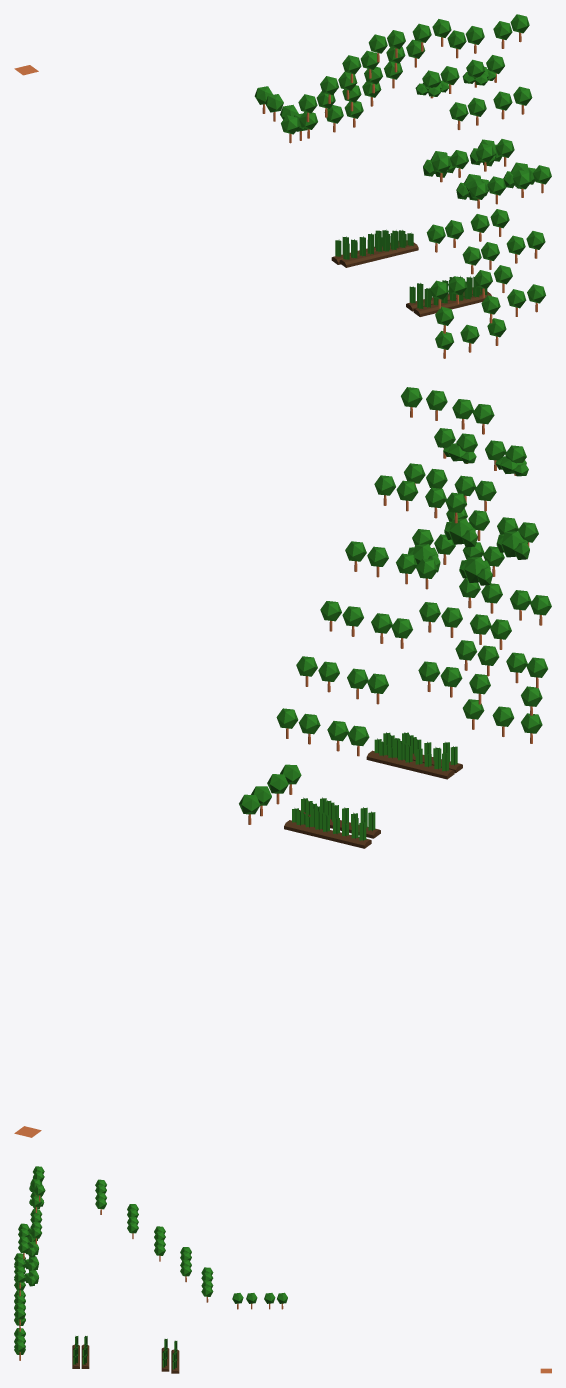
Rendered from solution_13_green_balkony.fbx.
3 views of the same model, one above another, from view 1: azimuth 30°, elevation 25°; view 2: azimuth 150°, elevation 25°; view 3: azimuth 270°, elevation 25° (orthographic). The views are drawn at different scales.
Parts seen in each view (by area): view 1: solution_13_green_balkony; view 2: solution_13_green_balkony; view 3: solution_13_green_balkony.
Boxes of the visible parts, bbox=[...] form: solution_13_green_balkony: bbox=[14, 14, 551, 358]; solution_13_green_balkony: bbox=[14, 387, 551, 1137]; solution_13_green_balkony: bbox=[14, 1166, 551, 1373].
Size of the model in its own units: 1532 by 4098 by 9636.
